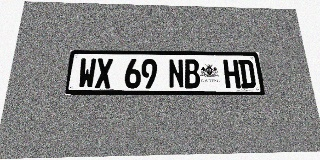6: (124, 59, 141, 88)
9: (141, 59, 157, 88)
B: (184, 59, 201, 88)
D: (238, 60, 256, 88)
H: (223, 60, 241, 88)
N: (168, 59, 184, 88)
W: (77, 58, 96, 88)
X: (95, 58, 113, 88)
